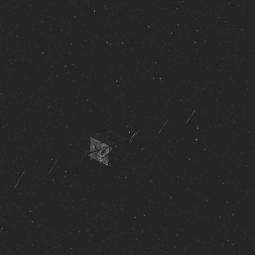smart_1: (31, 97, 156, 183)
